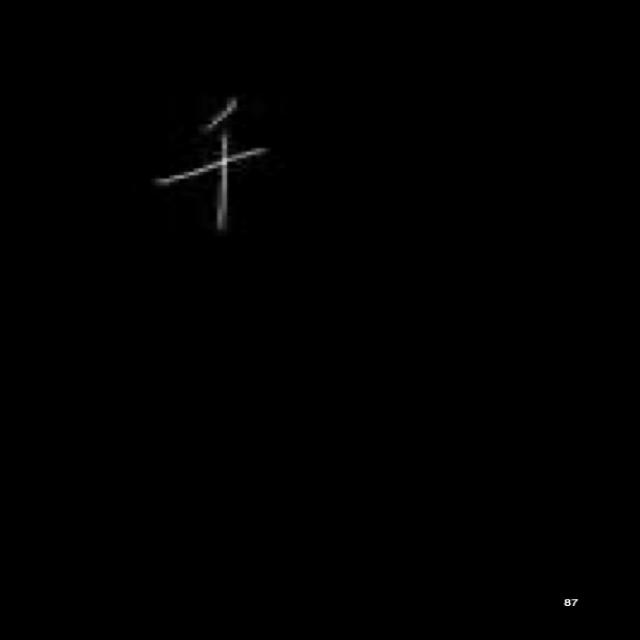1000 -a thousand-: (145, 89, 274, 232)
